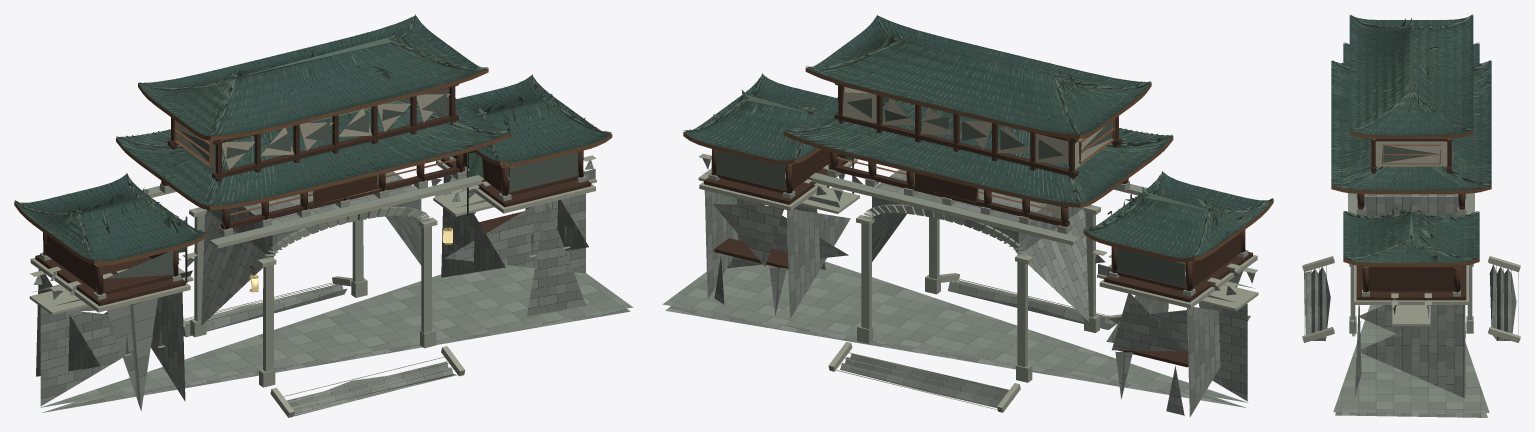
File: sect_gate_lod.glb
3 renders of one model, left to right at view 1: azimuth 30°, elevation 25°; view 2: azimuth 150°, elevation 25°; view 3: azimuth 270°, elevation 25°, orthographic. The views are drawn at different scales.
Parts seen in each view (by area): view 1: Distant_JadeTile, Distant_Ashlar, Distant_TileEdge, Distant_Paving, Distant_Timber, Distant_ArchStone, Distant_Coping, Distant_CarvedWood, Distant_Window, Distant_Plaster; view 2: Distant_JadeTile, Distant_Ashlar, Distant_TileEdge, Distant_Paving, Distant_Timber, Distant_ArchStone, Distant_Coping, Distant_CarvedWood, Distant_Window, Distant_Plaster; view 3: Distant_JadeTile, Distant_TileEdge, Distant_Ashlar, Distant_Paving, Distant_Timber, Distant_Coping, Distant_CarvedWood, Distant_ArchStone, Distant_Plaster, Distant_Window.
Part boxes in pixels (box(x1,y1,x2,y2)): Distant_JadeTile: box(15, 15, 611, 261); Distant_Ashlar: box(32, 160, 630, 416); Distant_TileEdge: box(15, 14, 611, 260); Distant_Paving: box(40, 265, 633, 407); Distant_Timber: box(35, 84, 605, 314); Distant_ArchStone: box(40, 156, 586, 387); Distant_Coping: box(29, 155, 596, 417); Distant_CarvedWood: box(14, 25, 612, 266); Distant_Window: box(105, 93, 578, 354); Distant_Plaster: box(175, 88, 450, 170); Distant_JadeTile: box(683, 15, 1273, 258); Distant_Ashlar: box(665, 158, 1255, 416); Distant_TileEdge: box(683, 15, 1272, 257); Distant_Paving: box(662, 261, 1248, 402); Distant_Timber: box(704, 74, 1252, 367); Distant_ArchStone: box(708, 156, 1248, 382); Distant_Coping: box(698, 153, 1258, 412); Distant_CarvedWood: box(683, 20, 1273, 262); Distant_Window: box(716, 98, 1185, 287); Distant_Plaster: box(842, 87, 1112, 169); Distant_JadeTile: box(1331, 15, 1491, 263); Distant_TileEdge: box(1331, 14, 1491, 263); Distant_Ashlar: box(1304, 194, 1516, 417); Distant_Paving: box(1333, 305, 1489, 412); Distant_Timber: box(1347, 135, 1476, 300); Distant_Coping: box(1302, 256, 1520, 342); Distant_CarvedWood: box(1331, 130, 1491, 268); Distant_ArchStone: box(1348, 193, 1474, 336); Distant_Plaster: box(1375, 141, 1447, 166); Distant_Window: box(1354, 146, 1437, 327).
Bounding box in the file's own units: 31 × 16.18 × 12.54.
15 materials, 10 textured.
